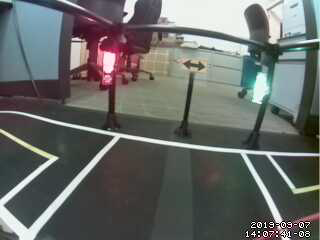Left_Right_sign: (179, 56, 212, 74)
Traffic_light_green: (257, 70, 269, 106)
Traffic_light_red: (101, 51, 113, 86)
